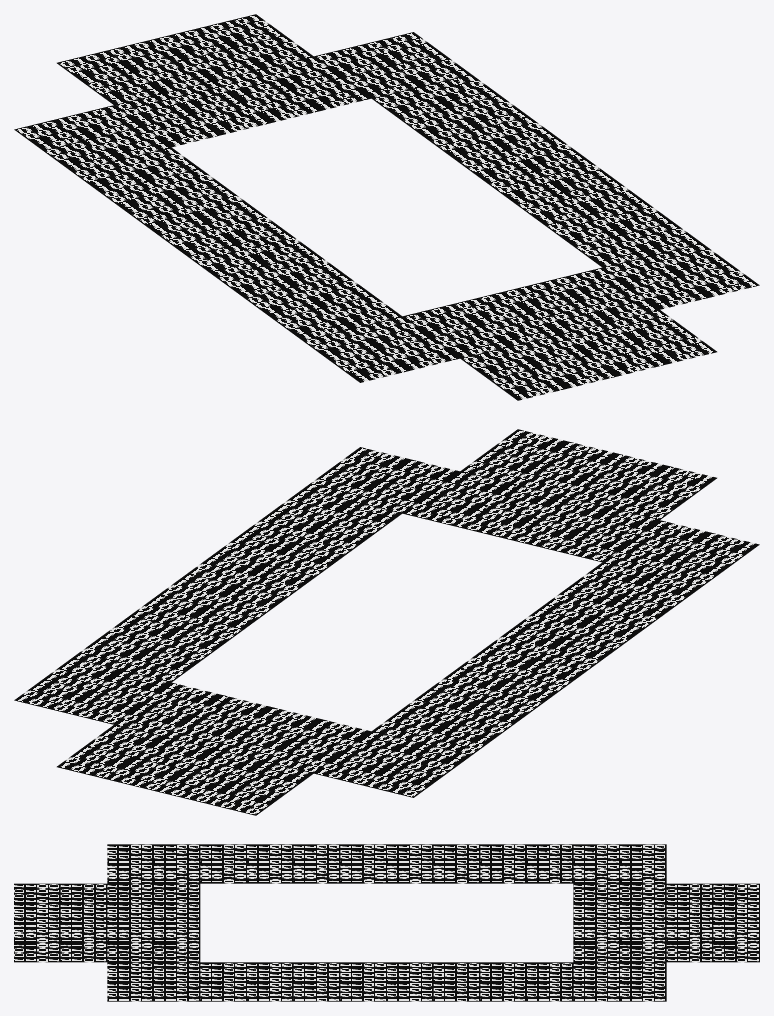
Rendered from data_Med.obj.
The picture shows the model from 3 angles, top to bottom: view 1: azimuth 30°, elevation 25°; view 2: azimuth 150°, elevation 25°; view 3: azimuth 270°, elevation 25°; orthographic projection. The views are drawn at different scales.
Parts seen in each view (by area): view 1: piece_0012, piece_0001, piece_0010, piece_000B, piece_0008, piece_0003, piece_0011, piece_000E, piece_000A, piece_0009, piece_0005, piece_0002 (+8 smaller); view 2: piece_0013, piece_0000, piece_000F, piece_000A, piece_0009, piece_0004, piece_0011, piece_000E, piece_000B, piece_0008, piece_0005, piece_0002 (+8 smaller); view 3: piece_0011, piece_0010, piece_000F, piece_000E, piece_000D, piece_000C, piece_000B, piece_000A, piece_0009, piece_0008, piece_0007, piece_0006 (+8 smaller).
Part boxes in pixels (x1,y1,x2,y2): piece_0012: (156, 14, 313, 80); piece_0001: (460, 334, 617, 400); piece_0010: (114, 81, 270, 147); piece_000B: (130, 189, 286, 256); piece_0008: (487, 158, 643, 225); piece_0003: (503, 267, 659, 333); piece_0011: (14, 105, 171, 171); piece_000E: (314, 32, 470, 98); piece_000A: (429, 116, 586, 182); piece_0009: (187, 232, 344, 298); piece_0005: (303, 316, 459, 382); piece_0002: (602, 243, 759, 309); piece_0013: (156, 749, 313, 815); piece_0000: (460, 429, 617, 495); piece_000F: (114, 682, 270, 748); piece_000A: (130, 573, 286, 640); piece_0009: (487, 604, 643, 671); piece_0004: (503, 496, 659, 562); piece_0011: (314, 731, 470, 797); piece_000E: (14, 658, 171, 724); piece_000B: (429, 647, 586, 713); piece_0008: (187, 531, 344, 597); piece_0005: (602, 520, 759, 586); piece_0002: (303, 447, 459, 513); piece_0011: (573, 844, 666, 883); piece_0010: (573, 883, 666, 922); piece_000F: (573, 923, 666, 962); piece_000E: (573, 962, 666, 1001); piece_000D: (480, 844, 573, 883); piece_000C: (480, 962, 573, 1001); piece_000B: (387, 844, 480, 883); piece_000A: (387, 962, 480, 1001); piece_0009: (293, 844, 386, 883); piece_0008: (293, 962, 386, 1001); piece_0007: (200, 844, 293, 883); piece_0006: (200, 962, 293, 1001).
Bounding box in the file's own units: 30.72 × 0 × 61.44.
Materials: 1 (1 with a texture image).
